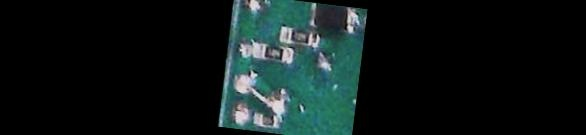chip-resistor: (249, 39, 295, 64), (278, 25, 321, 48), (249, 108, 283, 131)
diode: (306, 2, 361, 34)
